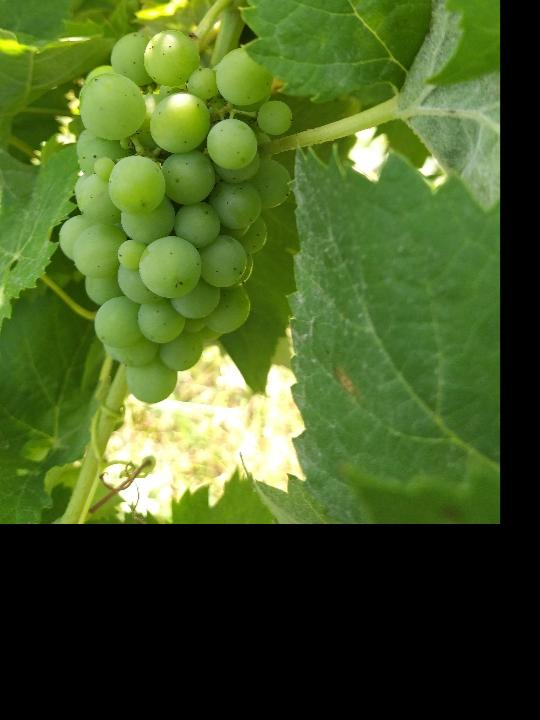grape: (57, 26, 290, 401)
